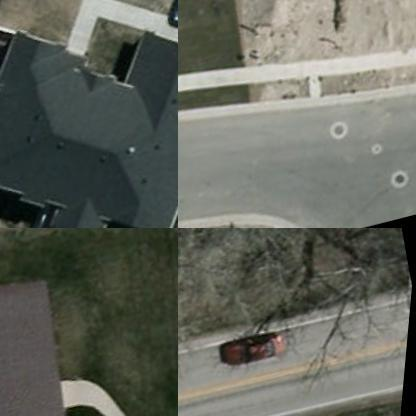car: (218, 326, 292, 374)
